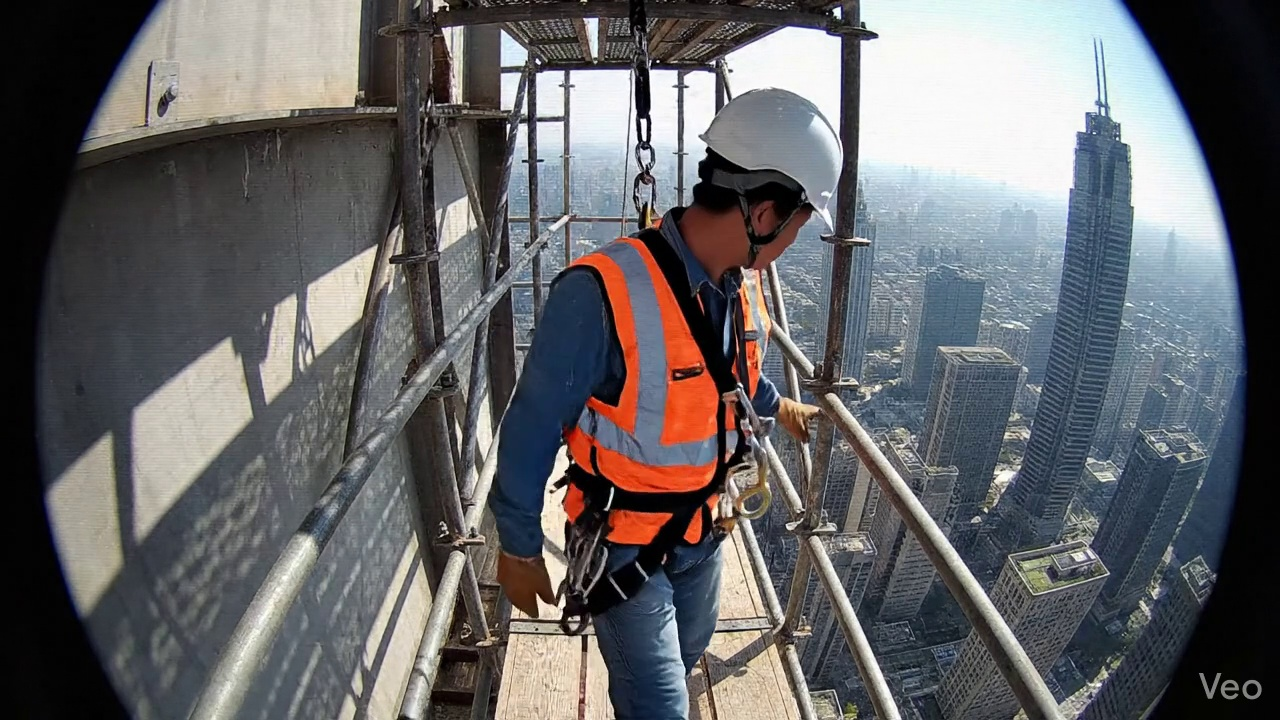person: (492, 88, 841, 719)
